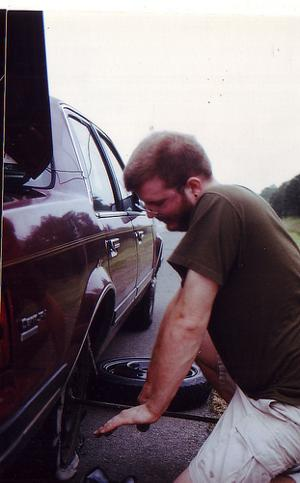person: (95, 132, 300, 482)
